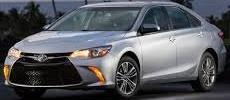Cars: (5, 3, 227, 99)
